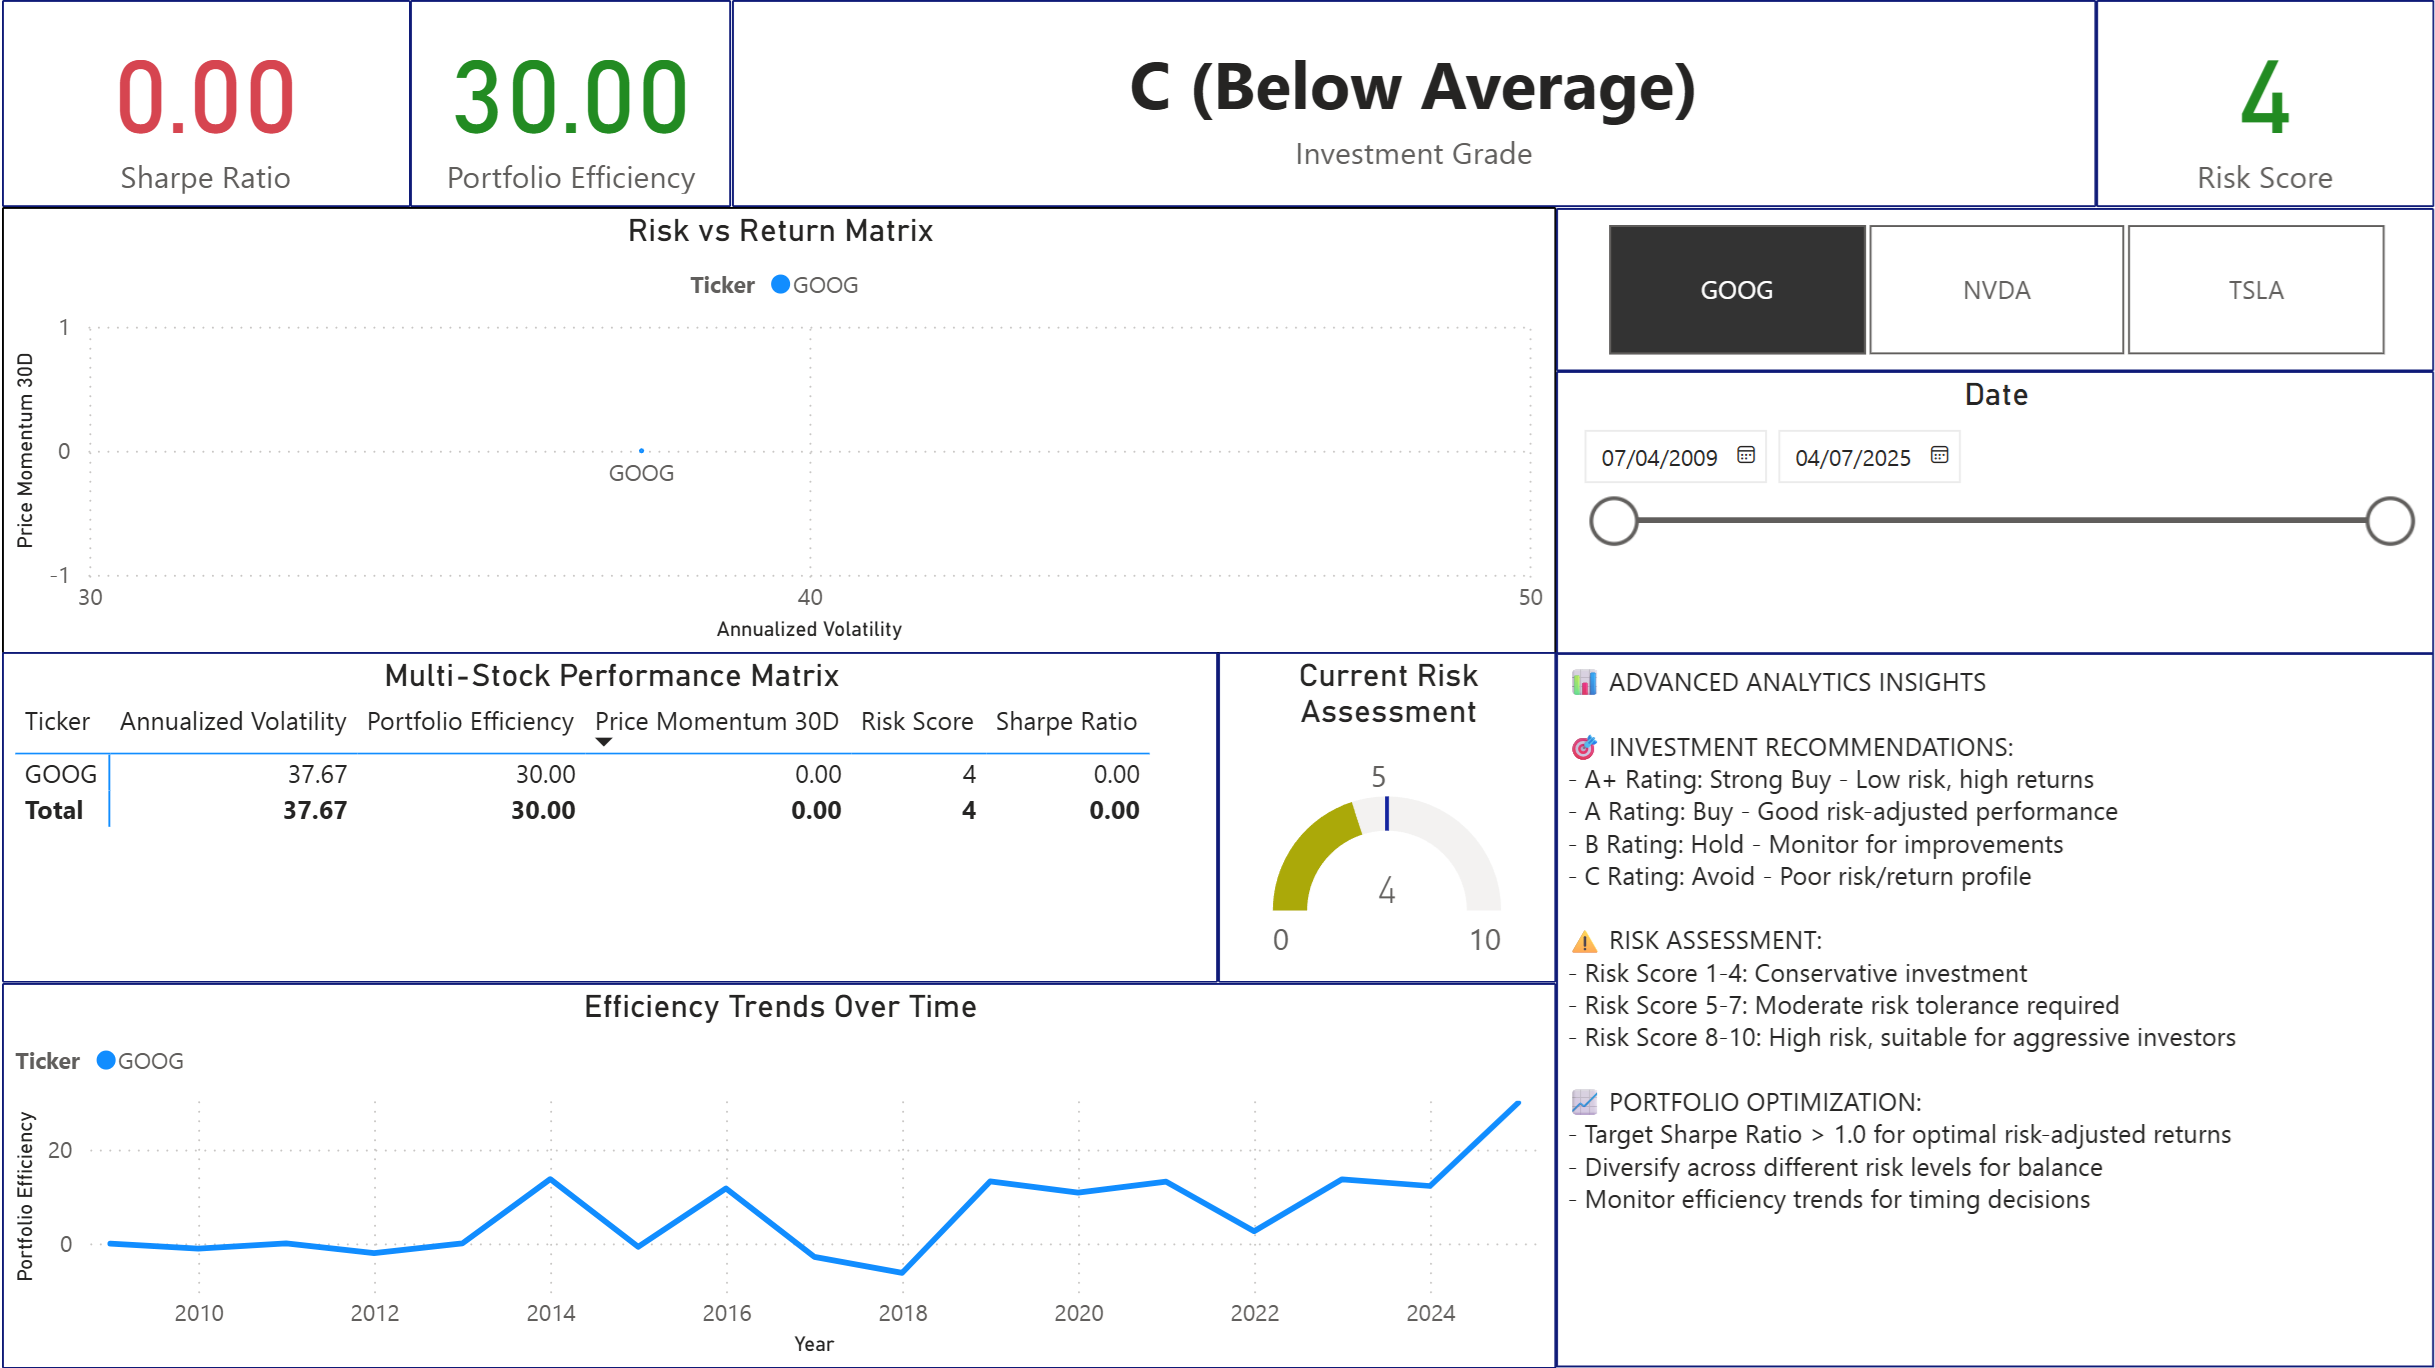

The dashboard page shown, as its layout file describes it:
{"tool":"powerbi","page":{"name":"Technical Analysis Measures","canvas":[1280,720],"ordinal":1},"visuals":[{"type":"lineChart","title":"Price Trends with Moving Averages","fields":{"Category":["Prices.Date.Variation.Date Hierarchy.Year","Prices.Date.Variation.Date Hierarchy.Quarter","Prices.Date.Variation.Date Hierarchy.Month","Prices.Date.Variation.Date Hierarchy.Day"],"Y":["Sum(Prices.Close)","Prices.Moving_Averages_50","Prices.Moving_Averages_20"]},"box":[279.9,0,839.8,279.9],"z":0},{"type":"card","fields":{"Values":["Prices.Current Price"]},"box":[0,279.9,279.9,140],"z":1},{"type":"card","fields":{"Values":["Prices.Moving_Averages_20"]},"box":[279.9,279.9,279.9,140],"z":2},{"type":"card","fields":{"Values":["Prices.Moving_Averages_50"]},"box":[559.9,279.9,279.9,140],"z":3},{"type":"card","fields":{"Values":["Prices.Price Momentum 30D"]},"box":[839.8,279.9,279.9,140],"z":4},{"type":"areaChart","title":"30-Day Rolling Volatility","fields":{"Category":["Prices.Date.Variation.Date Hierarchy.Year","Prices.Date.Variation.Date Hierarchy.Quarter","Prices.Date.Variation.Date Hierarchy.Month","Prices.Date.Variation.Date Hierarchy.Day"],"Y":["Prices.Price Volatility 30D"]},"box":[0,419.9,279.9,149.6],"z":5},{"type":"gauge","title":"Risk Assessment","fields":{"Y":["Prices.Risk Score"]},"box":[279.9,419.9,279.9,149.6],"z":6},{"type":"scatterChart","title":"Risk vs Return Analysis","fields":{"X":["Prices.Price Volatility 30D"],"Y":["Prices.Price Momentum 30D"],"Category":["Prices.Ticker"]},"box":[559.9,419.9,279.9,149.6],"z":7},{"type":"slicer","title":"Stocks","fields":{"Values":["Prices.Ticker"]},"box":[0,0,279.9,279.9],"z":8}]}

Visuals, with their boxes in screenshot pixels (x1, y1, x2, y2), scaled from the page's 1280x720 canvas onto the 2435x1368 screenshot:
"Price Trends with Moving Averages" lineChart: [532,0,2130,532]
card - Prices.Current Price: [0,532,532,798]
card - Prices.Moving_Averages_20: [532,532,1065,798]
card - Prices.Moving_Averages_50: [1065,532,1598,798]
card - Prices.Price Momentum 30D: [1598,532,2130,798]
"30-Day Rolling Volatility" areaChart: [0,798,532,1082]
"Risk Assessment" gauge: [532,798,1065,1082]
"Risk vs Return Analysis" scatterChart: [1065,798,1598,1082]
"Stocks" slicer: [0,0,532,532]
